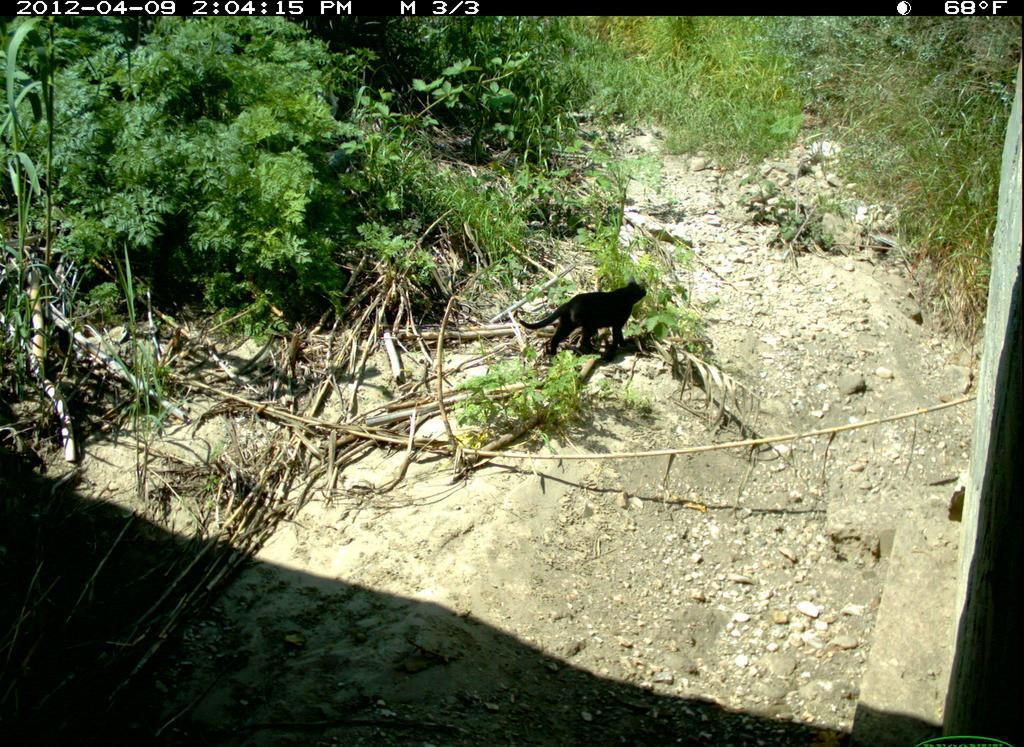cat: (507, 280, 666, 368)
